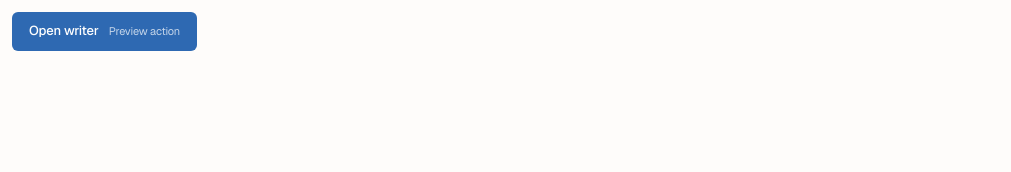
it: compatible inert render tree › clears a published-action explanation when the preview tree changes
Click the button "Open writer Preview action".
click(105, 31)  # box x1=12 y1=12 x2=197 y2=51
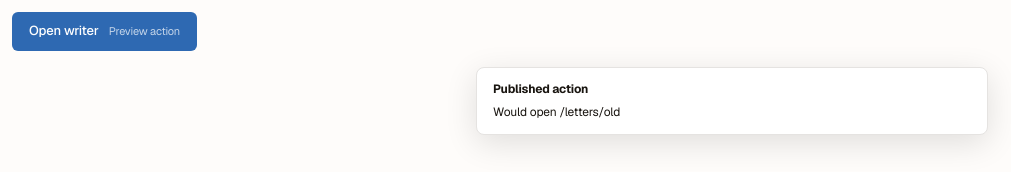
Expected: the element showing "Published action Would open /letters/old" is shown, x1=476 y1=67 x2=988 y2=135
